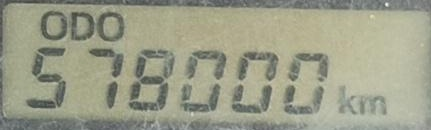0: (281, 50, 329, 116), (180, 48, 225, 113), (230, 51, 277, 113)
5: (24, 46, 68, 110)
7: (86, 46, 124, 110)
8: (127, 48, 174, 112)
X: (97, 10, 124, 42), (40, 10, 67, 40), (69, 10, 94, 41), (358, 92, 387, 115), (337, 84, 356, 115)
